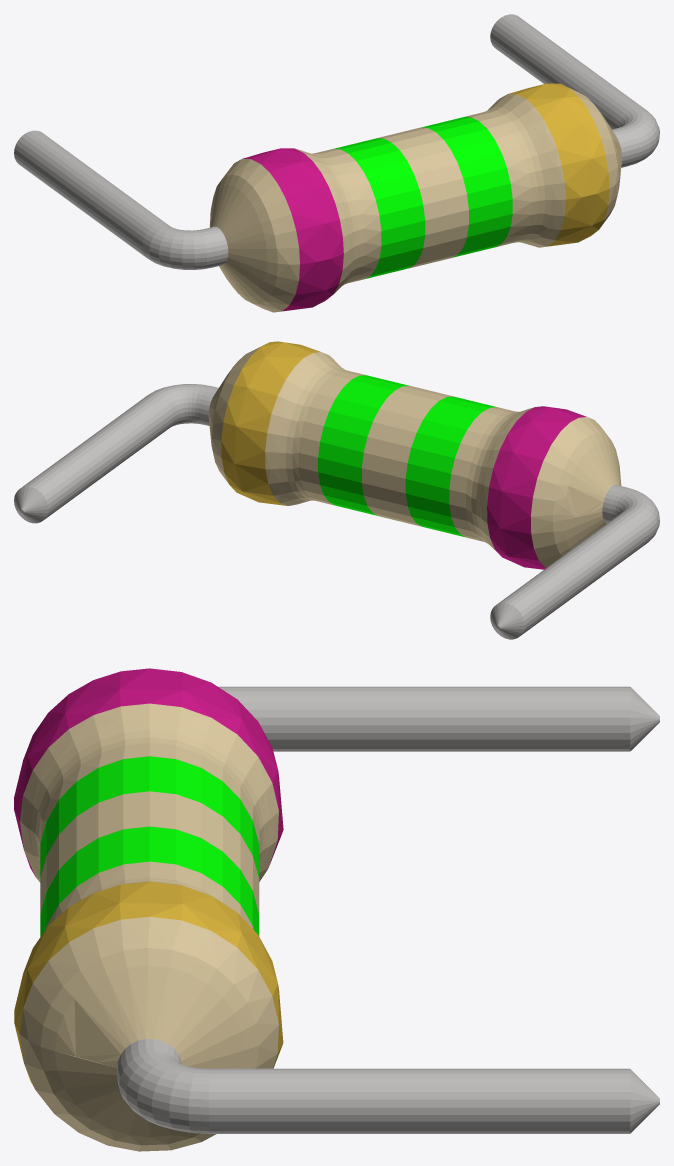
The model's file is Yageo CFR-25 Resistor Axial P7.62mm 7,5 MOhm.obj.
The picture shows the model from 3 angles, top to bottom: view 1: azimuth 30°, elevation 25°; view 2: azimuth 150°, elevation 25°; view 3: azimuth 270°, elevation 25°; orthographic projection. The views are drawn at different scales.
Parts seen in each view (by area): view 1: Yageo_CFR-25_Resistor_Axial_P7.62mm_7,5_MOhm; view 2: Yageo_CFR-25_Resistor_Axial_P7.62mm_7,5_MOhm; view 3: Yageo_CFR-25_Resistor_Axial_P7.62mm_7,5_MOhm.
Boxes of the visible parts, x1,y1,x2,y2 form: Yageo_CFR-25_Resistor_Axial_P7.62mm_7,5_MOhm: (14, 14, 659, 312); Yageo_CFR-25_Resistor_Axial_P7.62mm_7,5_MOhm: (14, 341, 659, 639); Yageo_CFR-25_Resistor_Axial_P7.62mm_7,5_MOhm: (14, 668, 659, 1151).
Size of the model in its own units: 0.0229 by 0.00633 by 0.0153.
